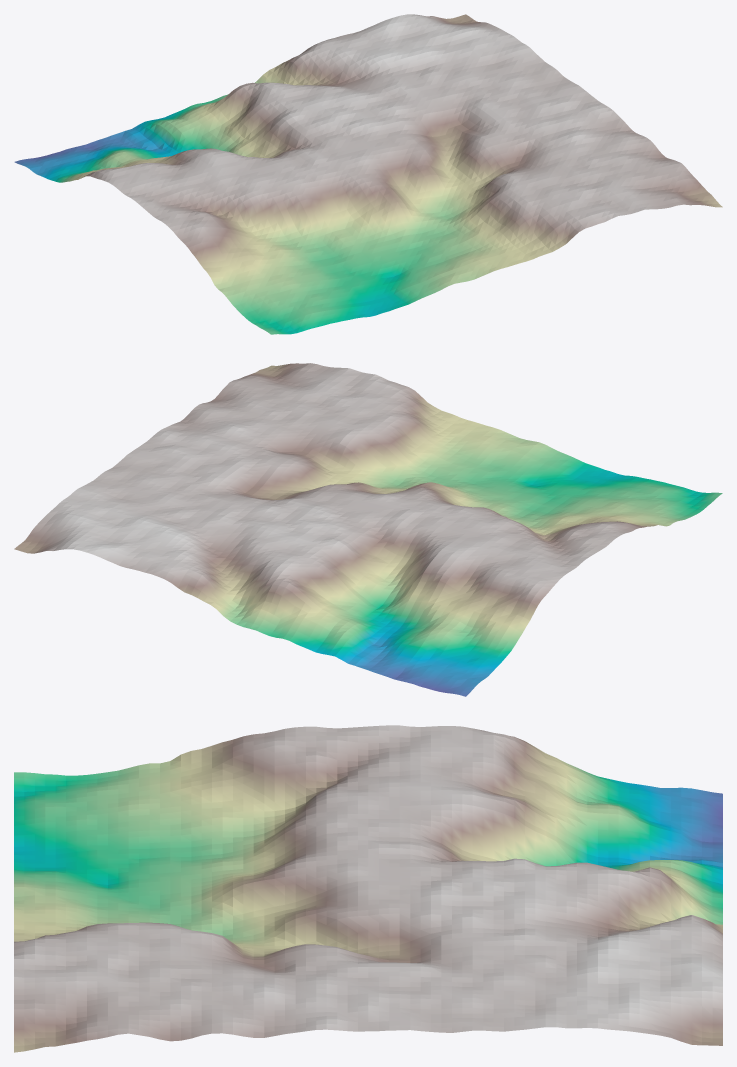
File: 001720_terrain_only.glb
3 renders of one model, top to bottom at view 1: azimuth 30°, elevation 25°; view 2: azimuth 150°, elevation 25°; view 3: azimuth 270°, elevation 25°, orthographic. The views are drawn at different scales.
Parts seen in each view (by area): view 1: terrain; view 2: terrain; view 3: terrain.
Part boxes in pixels (bbox=[...]): terrain: bbox=[14, 14, 722, 334]; terrain: bbox=[14, 363, 722, 696]; terrain: bbox=[14, 725, 722, 1052].
Bounding box in the file's own units: 0.0186 × 0.00216 × 0.0183.
